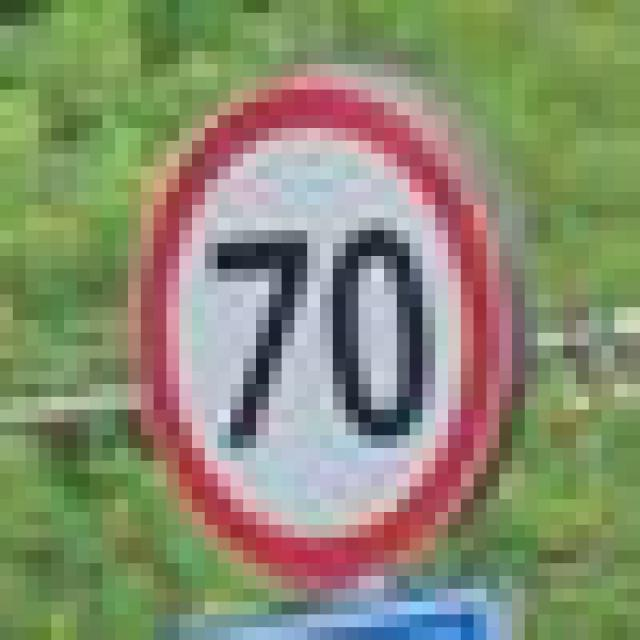SPEED_LIMIT_70: (116, 64, 487, 550)
